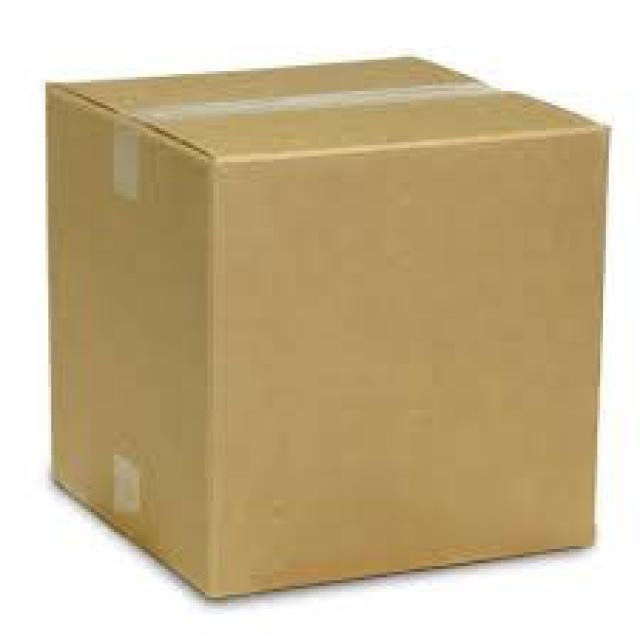cardboard: (40, 51, 606, 595)
